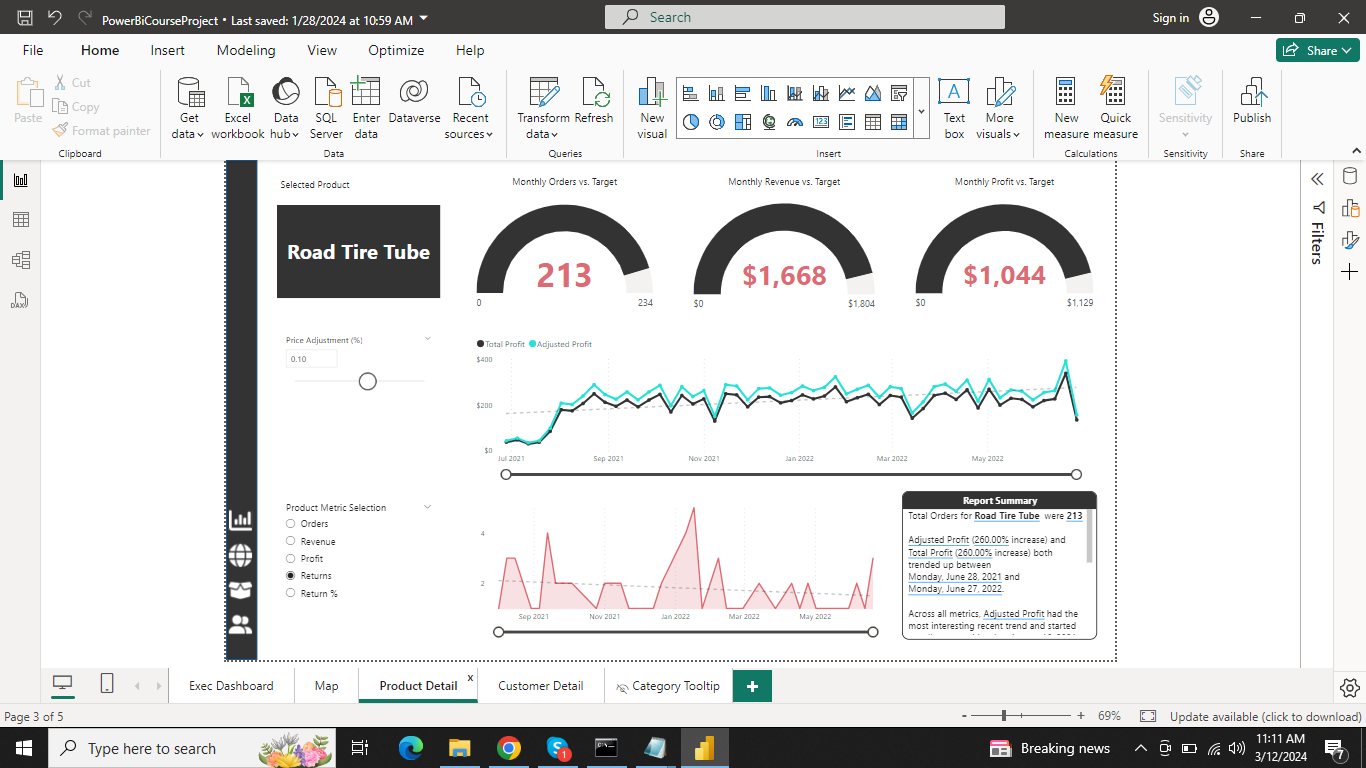

This screenshot's page, from the dashboard's own definition file:
{"tool":"powerbi","page":{"name":"Product Detail","canvas":[1280,720],"ordinal":2},"visuals":[{"type":"shape","box":[0,0,45,720],"z":0},{"type":"actionButton","box":[0.6,497.5,45.2,41.6],"z":0,"group":"g1"},{"type":"gauge","title":"Monthly Orders vs. Target","fields":{"Y":["Measure Table.Total Orders"],"MaxValue":["Measure Table.Order Target"]},"box":[356.1,22,264,222.5],"z":1000},{"type":"actionButton","box":[0.6,547.6,45.2,41.6],"z":1000,"group":"g1"},{"type":"gauge","title":"Monthly Revenue vs. Target","fields":{"Y":["Measure Table.Total Revenue"],"MaxValue":["Measure Table.Revenue Target"]},"box":[668.3,22,271.4,222.5],"z":2000},{"type":"actionButton","box":[0.6,597.7,45.2,41.6],"z":2000,"group":"g1"},{"type":"gauge","title":"Monthly Profit vs. Target","fields":{"Y":["Measure Table.Total Profit"],"MaxValue":["Measure Table.Profit Target"]},"box":[987.7,21.9,266.5,222.5],"z":3000},{"type":"actionButton","box":[0.6,647.9,45.2,41.6],"z":3000,"group":"g1"},{"type":"lineChart","title":"Profit Trending","fields":{"Category":["Calendar Lookup.Date of Hierarchy.Start of Year","Calendar Lookup.Date of Hierarchy.Start of Month","Calendar Lookup.Date of Hierarchy.Start of Week","Calendar Lookup.Date of Hierarchy.Date"],"Y":["Measure Table.Total Profit","Measure Table.Adjusted Profit"]},"box":[355.7,244.5,898.5,218.8],"z":4000},{"type":"areaChart","title":"Returns Trending","fields":{"Y":["Measure Table.Total Returns"],"Category":["Calendar Lookup.Date of Hierarchy.Start of Year","Calendar Lookup.Date of Hierarchy.Start of Month","Calendar Lookup.Date of Hierarchy.Start of Week","Calendar Lookup.Date of Hierarchy.Date"]},"box":[355.7,486.5,605.1,204.1],"z":5000},{"type":"card","fields":{"Values":["Min(Product Lookup.ProductName)"]},"box":[73.3,64.8,234.7,134.5],"z":6000},{"type":"textbox","box":[73.3,22,200.5,42.8],"z":7000},{"type":"group","id":"g1","title":"Navigation Buttons","box":[0.6,497.5,45.2,191.9],"z":8000},{"type":"slicer","fields":{"Values":["Price Adjustment (%).Price Adjustment (%)"]},"box":[73.3,244.5,234.7,101.5],"z":9000},{"type":"slicer","fields":{"Values":["Product Metric Selection.Product Metric Selection"]},"box":[73.3,486.5,234.7,202.9],"z":10000},{"type":"textbox","title":"Report Summary","box":[973,476.7,281.2,213.9],"z":11000}]}

Visuals, with their boxes on the page's 1280x720 design canvas (x1, y1, x2, y2). These are canvas units, not pixel positions in the 1366x768 screenshot, which may show the page scaled, cropped or inside an application window:
shape: (0,0,45,720)
actionButton: (1,498,46,539)
"Monthly Orders vs. Target" gauge: (356,22,620,244)
actionButton: (1,548,46,589)
"Monthly Revenue vs. Target" gauge: (668,22,940,244)
actionButton: (1,598,46,639)
"Monthly Profit vs. Target" gauge: (988,22,1254,244)
actionButton: (1,648,46,690)
"Profit Trending" lineChart: (356,244,1254,463)
"Returns Trending" areaChart: (356,486,961,691)
card - Min(Product Lookup.ProductName): (73,65,308,199)
textbox: (73,22,274,65)
"Navigation Buttons" group: (1,498,46,689)
slicer - Price Adjustment (%).Price Adjustment (%): (73,244,308,346)
slicer - Product Metric Selection.Product Metric Selection: (73,486,308,689)
"Report Summary" textbox: (973,477,1254,691)
